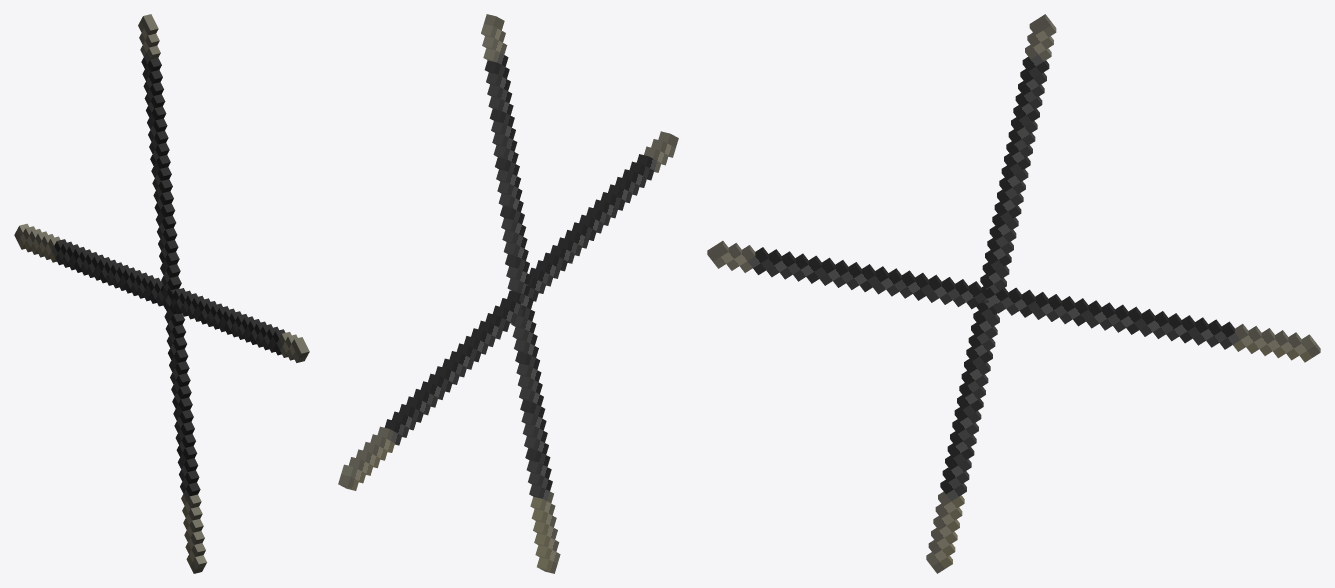
File: dragon_pike.glb
3 views of the same model, side by side, from view 1: azimuth 30°, elevation 25°; view 2: azimuth 150°, elevation 25°; view 3: azimuth 270°, elevation 25° (orthographic). The views are drawn at different scales.
Visible parts, largest first — view 1: off__Tool_L, main__Tool_R; view 2: off__Tool_L, main__Tool_R; view 3: main__Tool_R, off__Tool_L.
Part boxes in pixels (x1,y1,x2,y2): off__Tool_L: [138, 14, 206, 573]; main__Tool_R: [14, 223, 309, 362]; off__Tool_L: [481, 14, 560, 573]; main__Tool_R: [338, 131, 678, 490]; main__Tool_R: [707, 241, 1320, 362]; off__Tool_L: [926, 14, 1056, 573].
Bounding box in the file's own units: 0.0625 × 3.75 × 3.75.
1 material, 1 textured.
